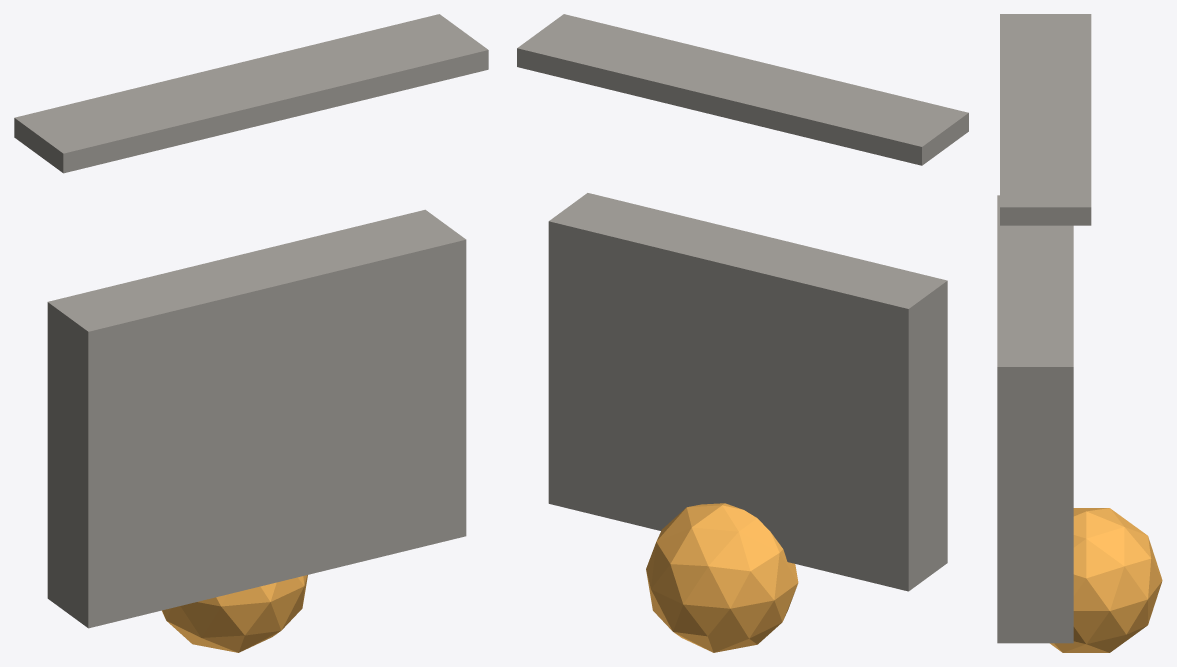
The model's file is stone_fireplace_1.glb.
3 views of the same model, side by side, from view 1: azimuth 30°, elevation 25°; view 2: azimuth 150°, elevation 25°; view 3: azimuth 270°, elevation 25° (orthographic). The views are drawn at different scales.
Parts seen in each view (by area): view 1: stone_fireplace_1_surround, stone_fireplace_1_mantle, stone_fireplace_1_fire; view 2: stone_fireplace_1_surround, stone_fireplace_1_mantle, stone_fireplace_1_fire; view 3: stone_fireplace_1_surround, stone_fireplace_1_mantle, stone_fireplace_1_fire.
Part boxes in pixels (x1,y1,x2,y2): stone_fireplace_1_surround: [47, 209, 466, 628]; stone_fireplace_1_mantle: [14, 14, 488, 173]; stone_fireplace_1_fire: [162, 575, 307, 652]; stone_fireplace_1_surround: [548, 193, 947, 591]; stone_fireplace_1_mantle: [517, 14, 968, 165]; stone_fireplace_1_fire: [646, 503, 798, 652]; stone_fireplace_1_surround: [997, 195, 1073, 643]; stone_fireplace_1_mantle: [1000, 14, 1091, 225]; stone_fireplace_1_fire: [1050, 508, 1162, 652].
Bounding box in the file's own units: 0.9 × 1.17 × 0.325.
